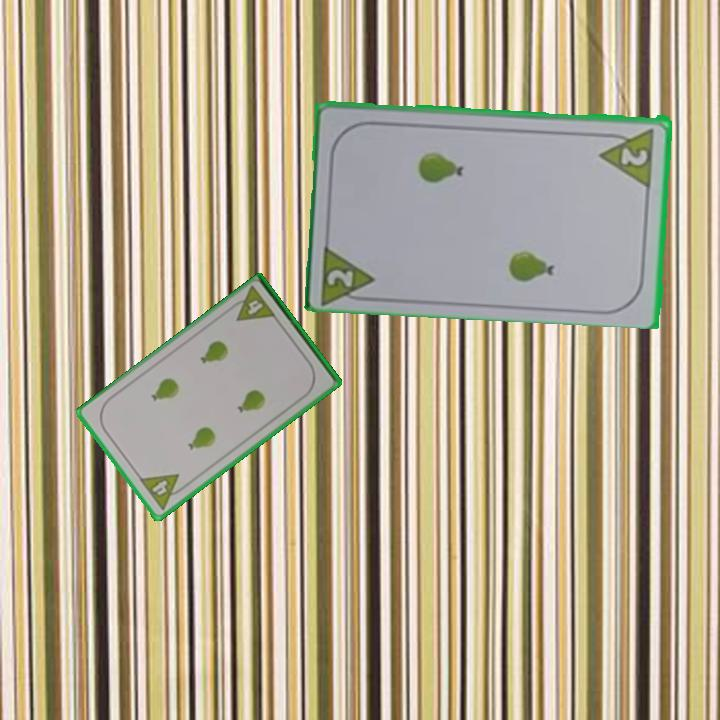2p: (317, 238, 379, 305), (597, 124, 658, 188)
4p: (136, 470, 190, 513), (226, 283, 279, 324)
